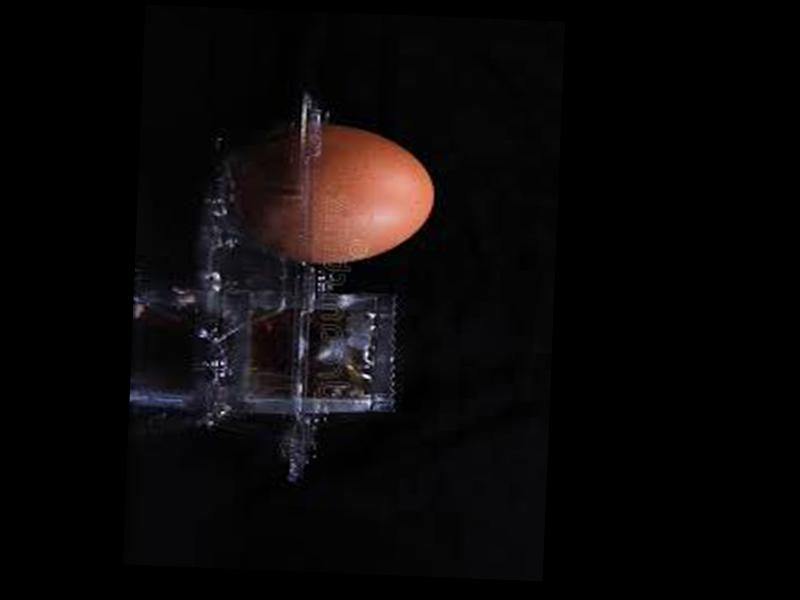Eggs: (224, 117, 436, 266)
